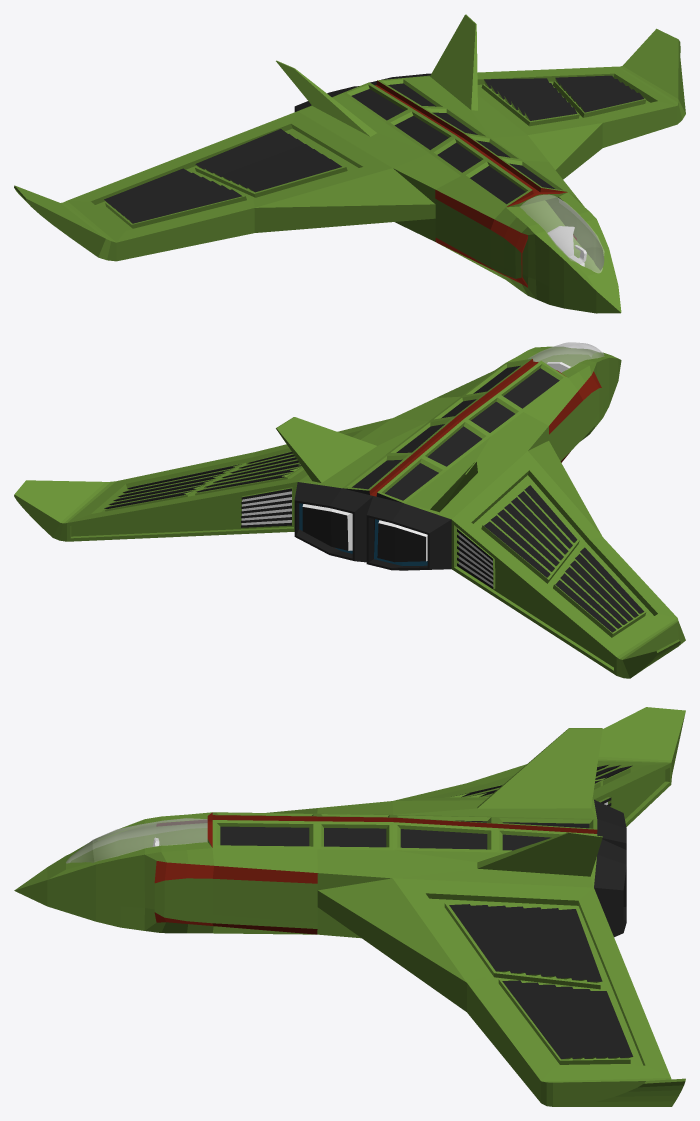
File: wanderer.glb
The picture shows the model from 3 angles, top to bottom: view 1: azimuth 30°, elevation 25°; view 2: azimuth 150°, elevation 25°; view 3: azimuth 270°, elevation 25°; orthographic projection. The views are drawn at different scales.
Visible parts, largest first — view 1: Cube, canope, seat; view 2: Cube, canope; view 3: Cube, canope.
Part boxes in pixels (left/top/right/bottom): Cube: left=14, top=14, right=685, bottom=313; canope: left=520, top=195, right=604, bottom=272; seat: left=547, top=226, right=586, bottom=266; Cube: left=14, top=346, right=685, bottom=678; canope: left=528, top=342, right=604, bottom=372; Cube: left=14, top=707, right=685, bottom=1106; canope: left=66, top=818, right=207, bottom=863.
Size of the model in its own units: 21.12 by 4.27 by 16.01.
Materials: 2 (1 with a texture image).
